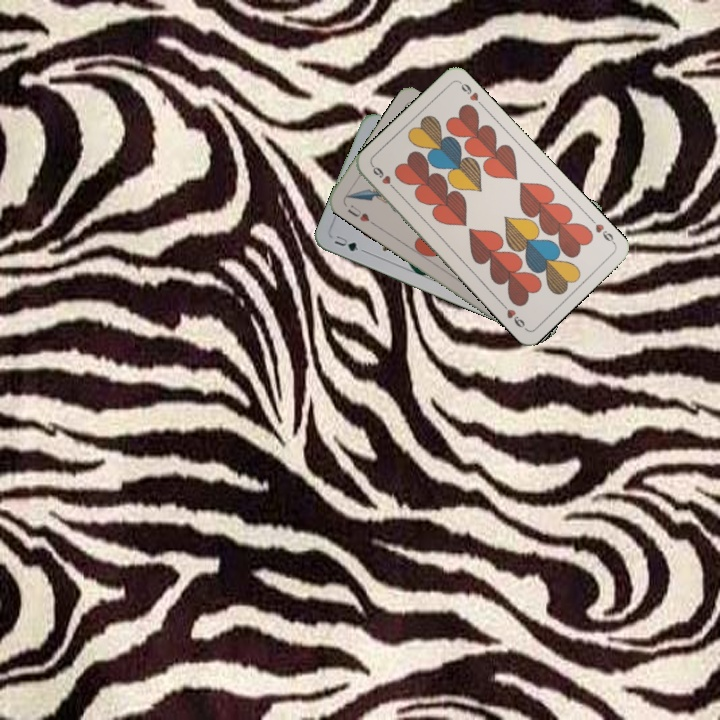GU: (330, 231, 362, 254)
H9: (368, 161, 400, 194), (586, 214, 618, 247)
HU: (343, 200, 372, 224)
